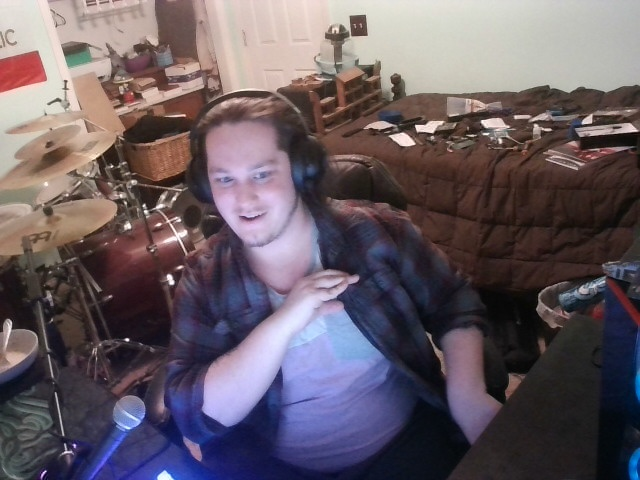police: (276, 261, 374, 338)
